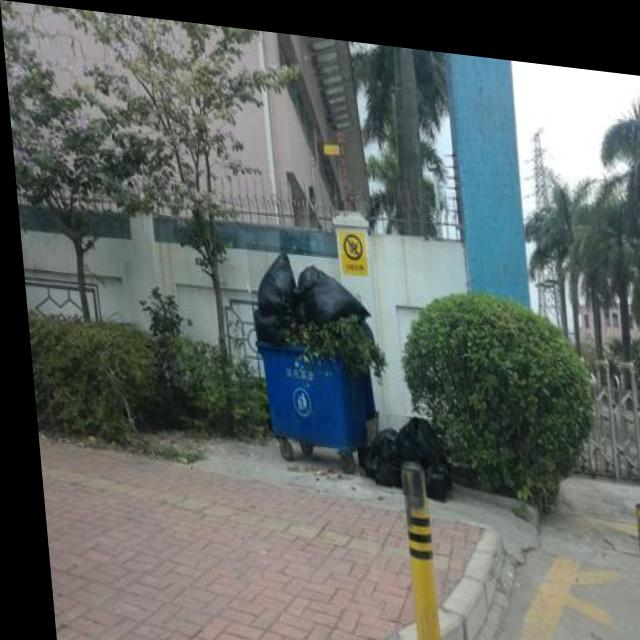garbage: (348, 402, 445, 491)
overflow: (242, 237, 382, 443)
